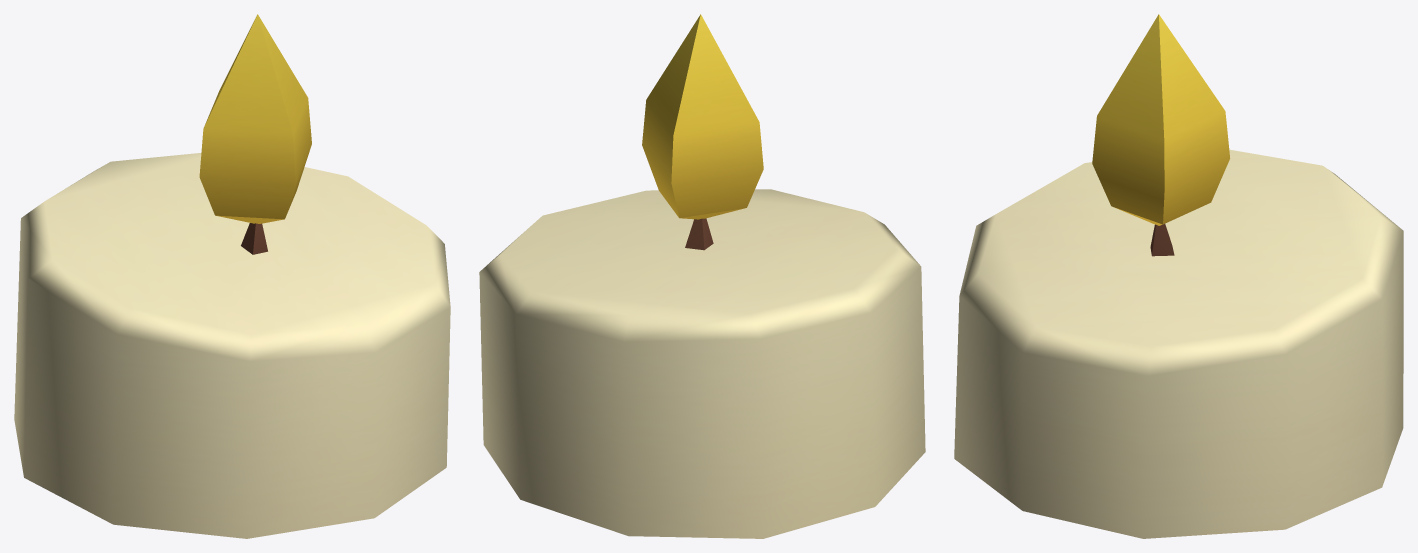
The model's file is WBA_Witch_Cauldron_Candle_03.fbx.
3 views of the same model, side by side, from view 1: azimuth 30°, elevation 25°; view 2: azimuth 150°, elevation 25°; view 3: azimuth 270°, elevation 25° (orthographic). The views are drawn at different scales.
Parts seen in each view (by area): view 1: WBA_Witch_Cauldron_Candle_03; view 2: WBA_Witch_Cauldron_Candle_03; view 3: WBA_Witch_Cauldron_Candle_03.
Part boxes in pixels (left/top/right/bottom): WBA_Witch_Cauldron_Candle_03: left=14, top=14, right=450, bottom=538; WBA_Witch_Cauldron_Candle_03: left=479, top=14, right=925, bottom=538; WBA_Witch_Cauldron_Candle_03: left=954, top=14, right=1403, bottom=538.
Bounding box in the file's own units: 5.31 × 5.67 × 5.28.
